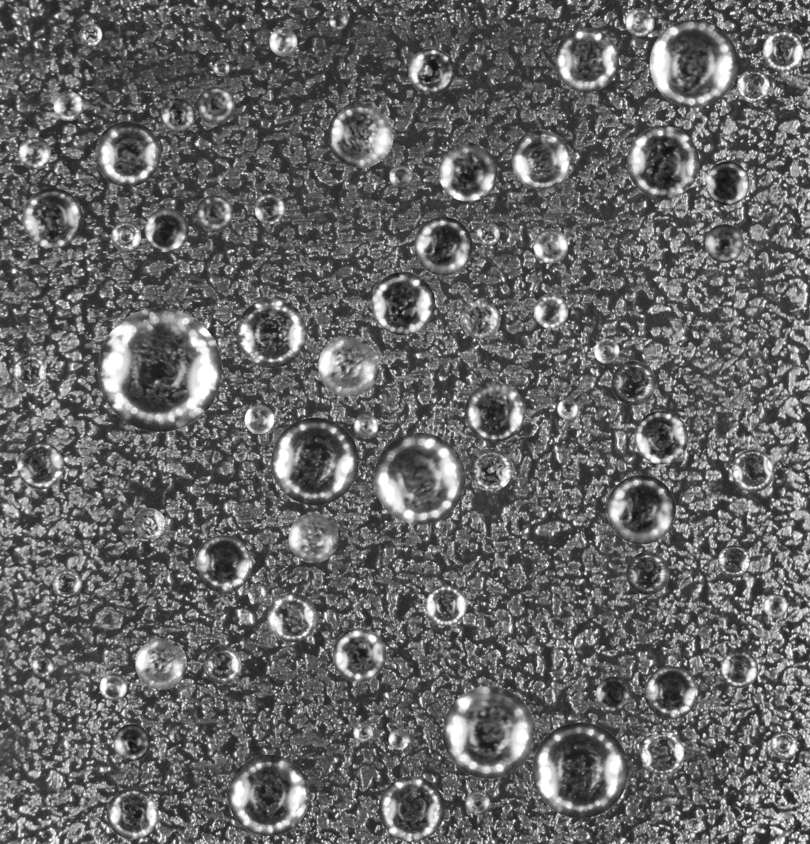Bubble: (97, 307, 221, 431), (532, 722, 628, 818), (442, 686, 535, 778), (373, 432, 465, 524), (649, 19, 738, 107), (271, 417, 358, 505), (228, 754, 309, 836), (627, 126, 699, 198), (236, 298, 306, 368), (606, 475, 675, 544), (327, 102, 393, 167), (379, 776, 444, 841), (95, 121, 160, 186), (371, 271, 435, 335), (554, 28, 618, 92), (318, 335, 379, 396), (22, 188, 82, 248), (465, 382, 525, 442), (438, 142, 497, 201), (511, 130, 570, 189), (414, 216, 472, 275), (194, 535, 252, 592), (332, 628, 386, 682), (634, 410, 688, 464), (644, 666, 697, 719), (106, 788, 158, 839), (135, 638, 186, 689), (288, 513, 338, 563), (267, 592, 316, 642), (17, 442, 63, 489), (408, 48, 454, 94), (611, 361, 656, 405), (705, 161, 749, 205), (640, 730, 684, 774), (144, 208, 188, 252), (469, 447, 512, 491), (626, 551, 669, 594), (731, 449, 774, 492), (425, 585, 466, 626), (763, 30, 803, 71), (460, 298, 500, 338), (720, 650, 758, 688), (195, 194, 233, 232), (203, 646, 241, 684), (196, 86, 234, 124), (705, 224, 743, 262), (113, 724, 150, 761), (533, 228, 568, 263), (533, 294, 568, 328), (160, 98, 195, 132), (596, 677, 630, 710), (18, 136, 51, 169), (737, 69, 769, 102), (717, 545, 750, 577), (13, 355, 45, 387), (133, 508, 165, 539), (254, 193, 285, 224), (244, 404, 274, 434), (111, 221, 141, 251), (53, 91, 83, 120), (52, 569, 81, 598), (625, 8, 654, 36), (269, 28, 297, 56), (99, 673, 127, 700), (770, 731, 797, 758), (594, 338, 619, 363), (465, 790, 490, 815), (353, 414, 378, 438), (763, 594, 787, 617), (389, 165, 412, 188), (476, 222, 499, 245), (79, 23, 102, 45), (32, 655, 54, 677), (388, 729, 409, 750), (557, 398, 578, 419), (353, 722, 372, 742), (247, 584, 266, 602), (329, 11, 347, 29), (213, 60, 229, 76), (687, 818, 701, 833)
